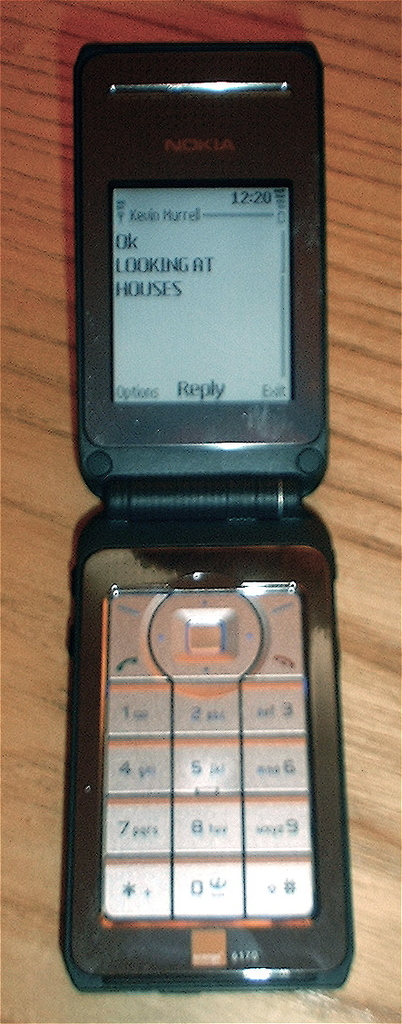mobile phone: (48, 10, 350, 984)
